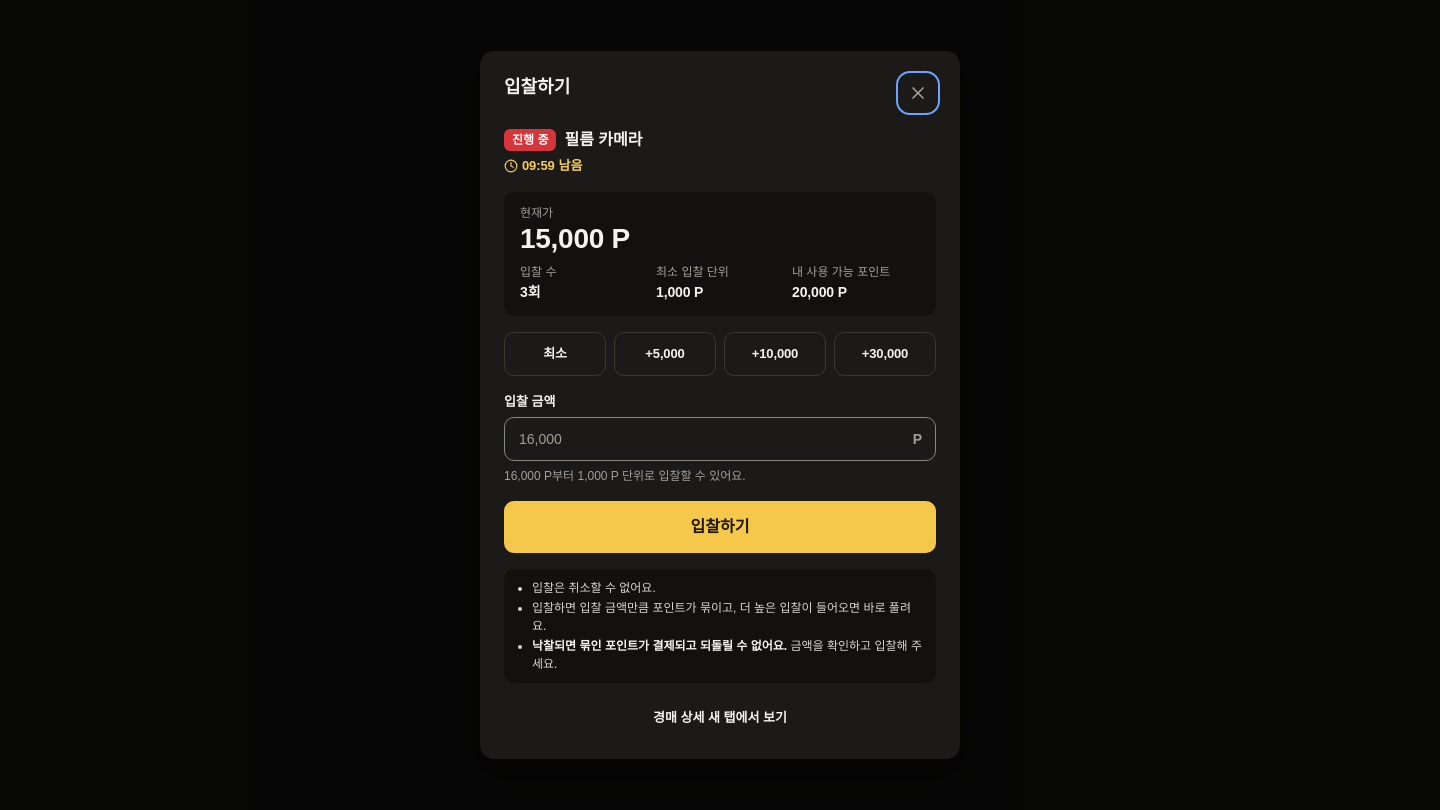
BidDialog › [최소]를 누르면 현재가 + 입찰 단위가 들어가고, 한 번 더 확인한 뒤 입찰한다
The width and height of the screenshot is (1440, 810).
Click the button "최소". click: (555, 354)
box: [504,332,606,376]
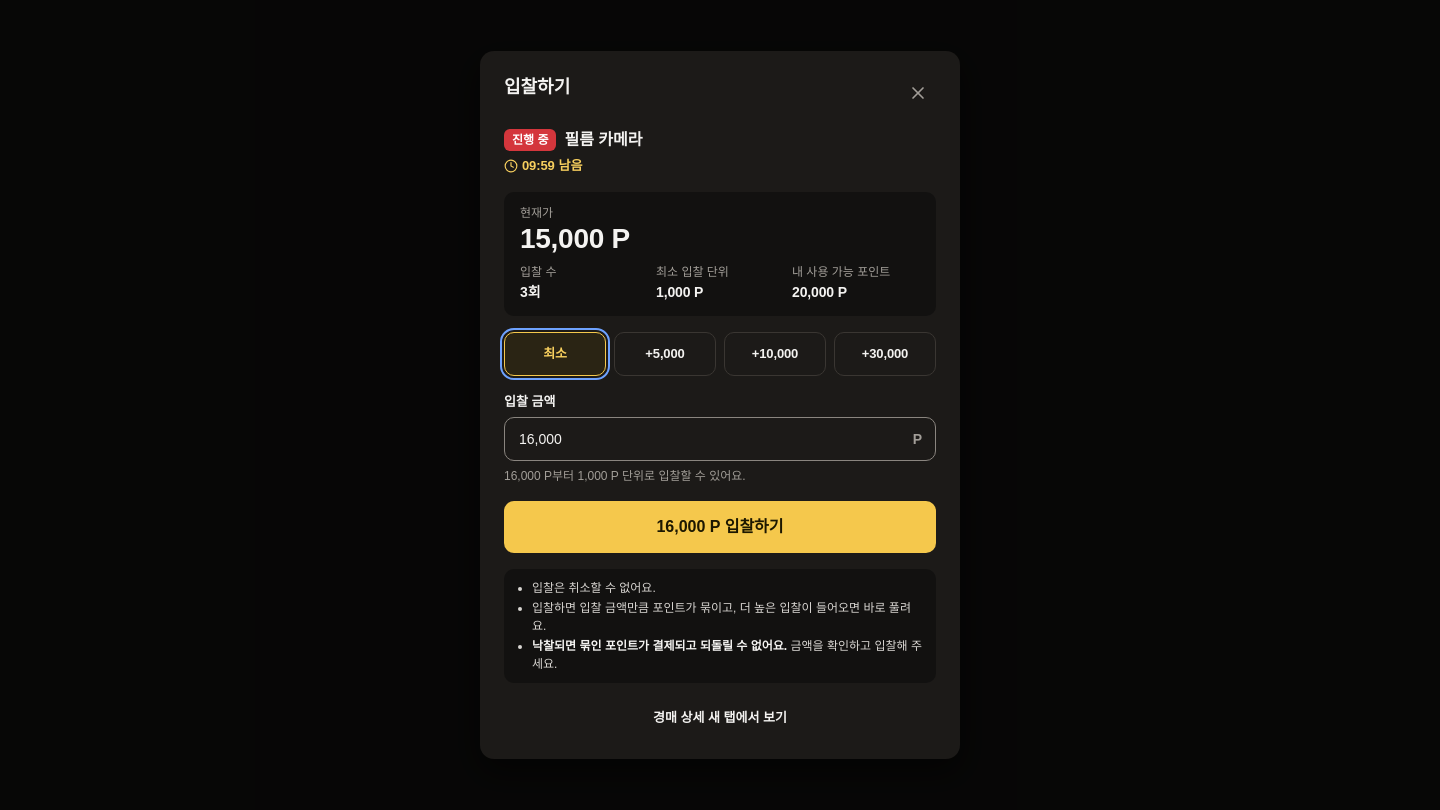
Now the field labelled "입찰 금액" holds "16,000", box [504,417,936,461]
Click the button "16,000 P 입찰하기". click: (720, 527)
box: [504,501,936,553]
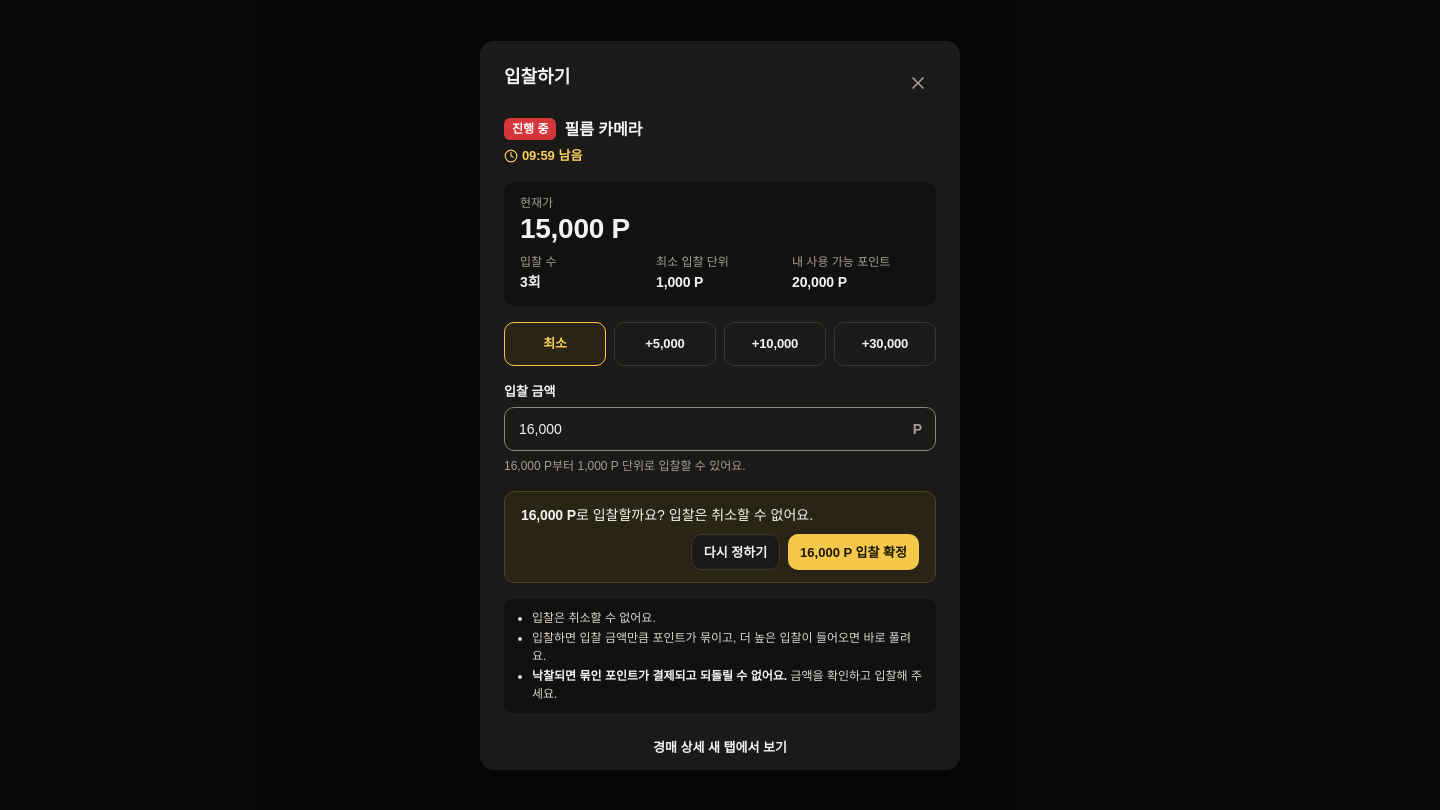
Now the element named "입찰 확인" shows "16,000 P로 입찰할까요?", box [504,491,936,584]
Click the button "16,000 P 입찰 확정". click: (854, 552)
box: [788,534,919,570]
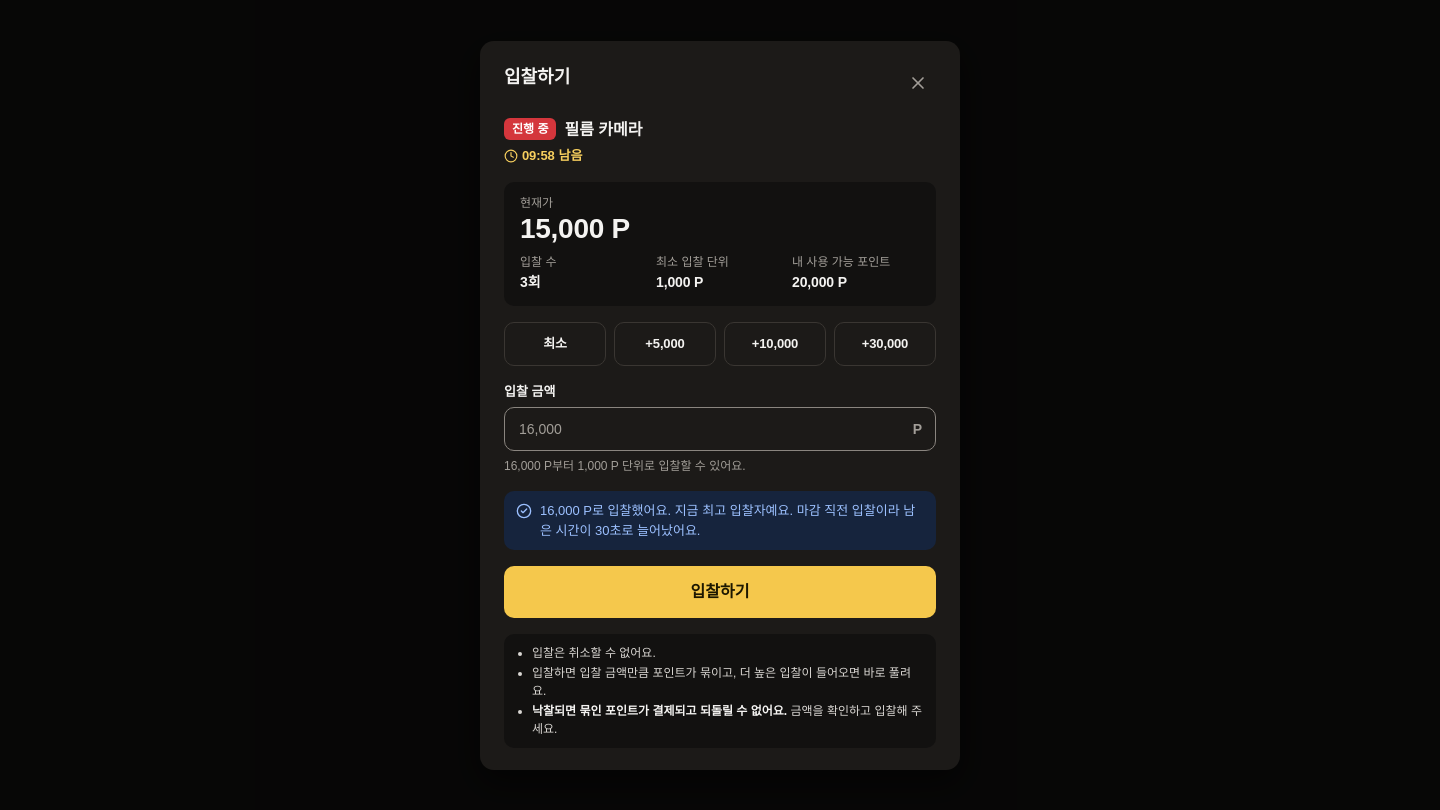
Now the text "16,000 P로 입찰했어요. 지금 최고 입찰자예요. 마감 직전 입찰이라 남은 시간이 30초로 늘어났어요." is shown, box [540,501,924,540]
